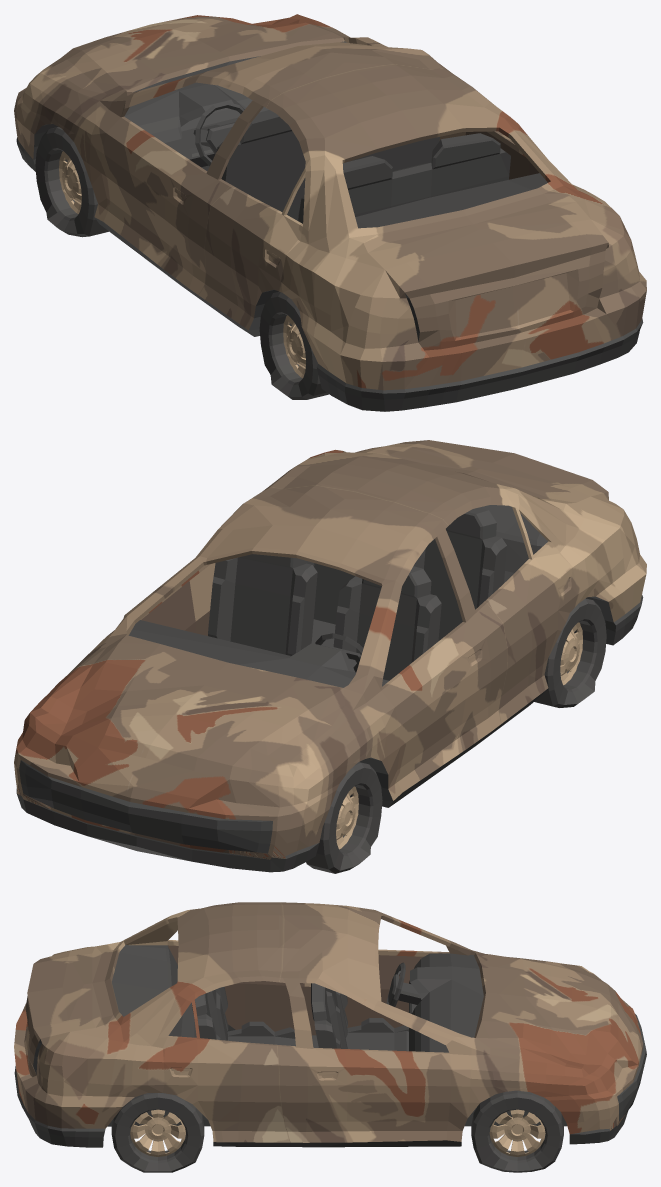
The model's file is model_car_destroyed.fbx.
3 renders of one model, top to bottom at view 1: azimuth 30°, elevation 25°; view 2: azimuth 150°, elevation 25°; view 3: azimuth 270°, elevation 25°, orthographic. The views are drawn at different scales.
Parts seen in each view (by area): view 1: model_car_destroyed; view 2: model_car_destroyed; view 3: model_car_destroyed.
Boxes of the visible parts, x1,y1,x2,y2 form: model_car_destroyed: [14, 14, 646, 411]; model_car_destroyed: [14, 440, 646, 873]; model_car_destroyed: [14, 902, 646, 1172].
Size of the model in its own units: 202 by 144 by 447.
Materials: 1 (1 with a texture image).
